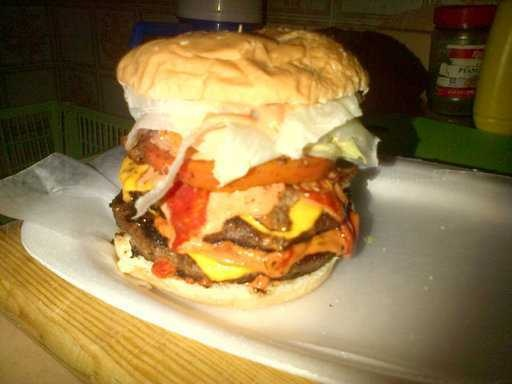hamburger: (112, 15, 373, 295)
